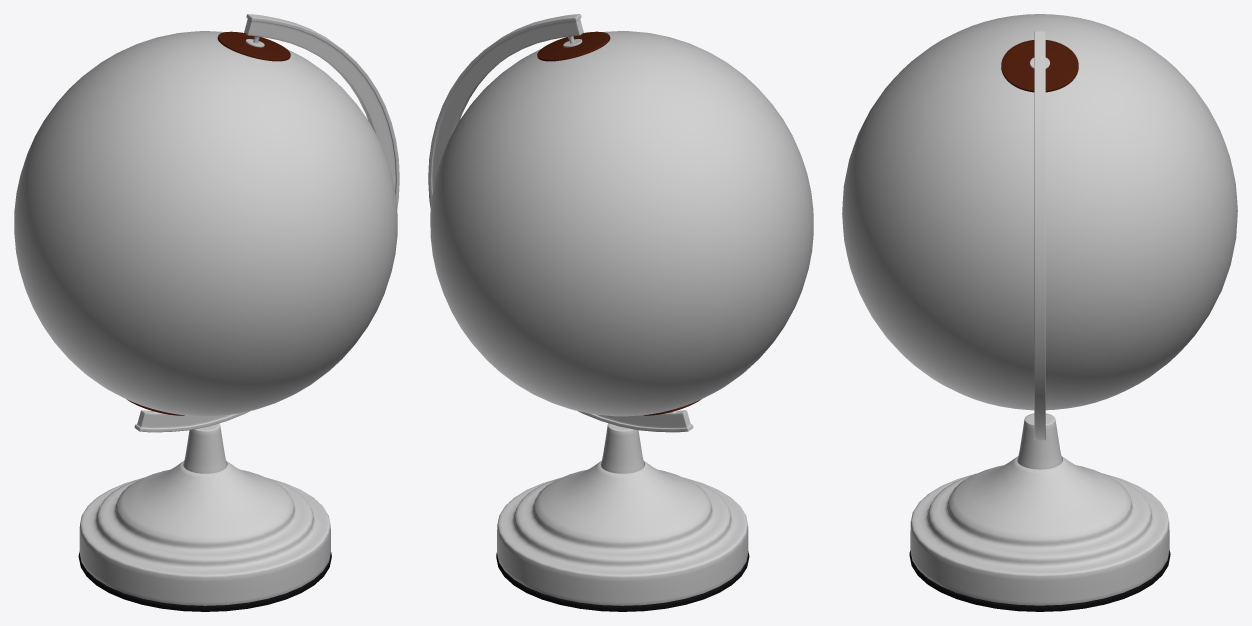
File: globe.obj
3 renders of one model, left to right at view 1: azimuth 30°, elevation 25°; view 2: azimuth 150°, elevation 25°; view 3: azimuth 270°, elevation 25°, orthographic. The views are drawn at different scales.
Parts seen in each view (by area): view 1: Object01, Globe02; view 2: Object01, Globe02; view 3: Object01, Globe02.
Boxes of the visible parts, bbox=[...] form: Object01: bbox=[14, 31, 397, 416]; Globe02: bbox=[78, 14, 399, 611]; Object01: bbox=[430, 31, 813, 416]; Globe02: bbox=[428, 14, 749, 611]; Object01: bbox=[842, 14, 1237, 410]; Globe02: bbox=[909, 31, 1170, 611].
Size of the model in its own units: 178 by 253 by 165.
